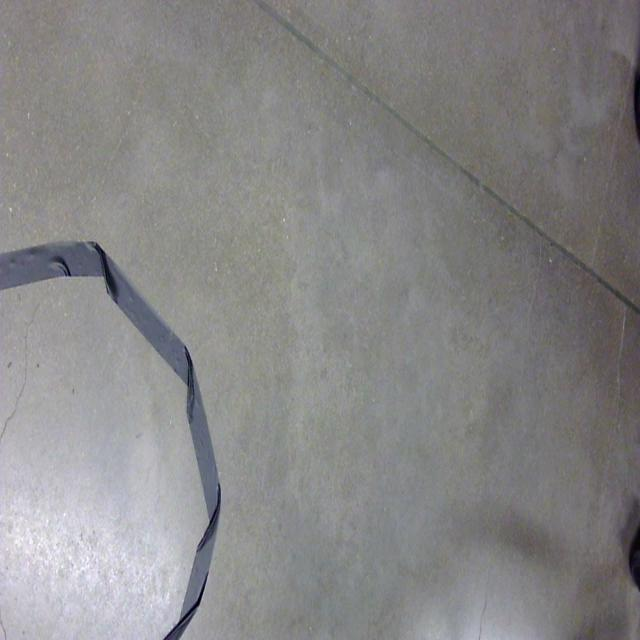tape: (0, 202, 239, 640)
